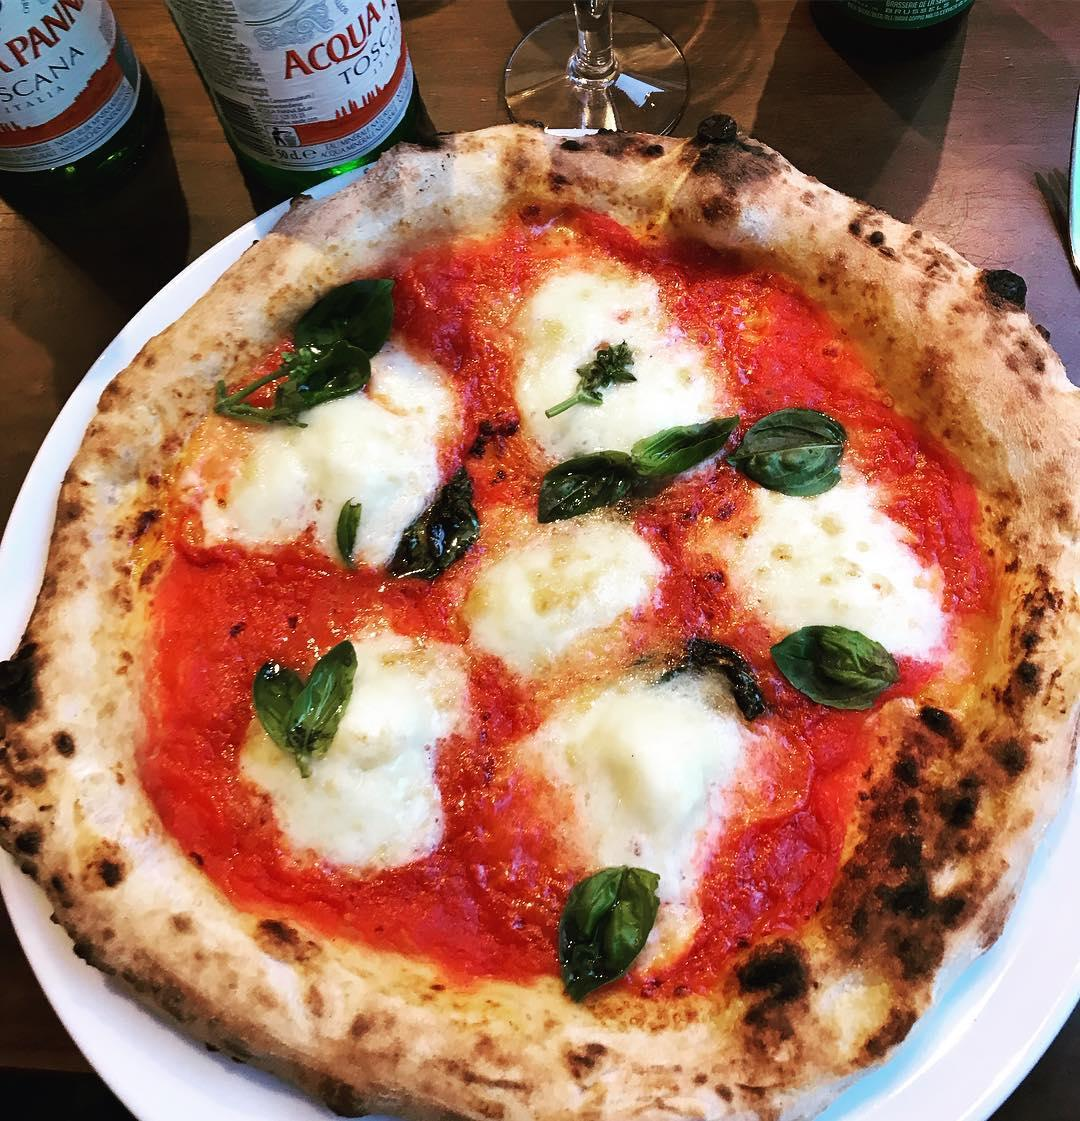Basil: (196, 271, 396, 425), (244, 645, 363, 768), (563, 865, 663, 1009), (776, 616, 899, 713), (381, 469, 479, 582), (739, 410, 845, 496), (630, 417, 741, 487), (539, 343, 634, 413), (538, 452, 632, 517), (337, 496, 363, 575)
Cheese: (522, 266, 719, 449), (224, 382, 436, 519), (304, 679, 436, 836), (590, 697, 725, 845), (486, 528, 624, 647), (758, 507, 909, 611)
Pizza: (0, 133, 1080, 1121)
